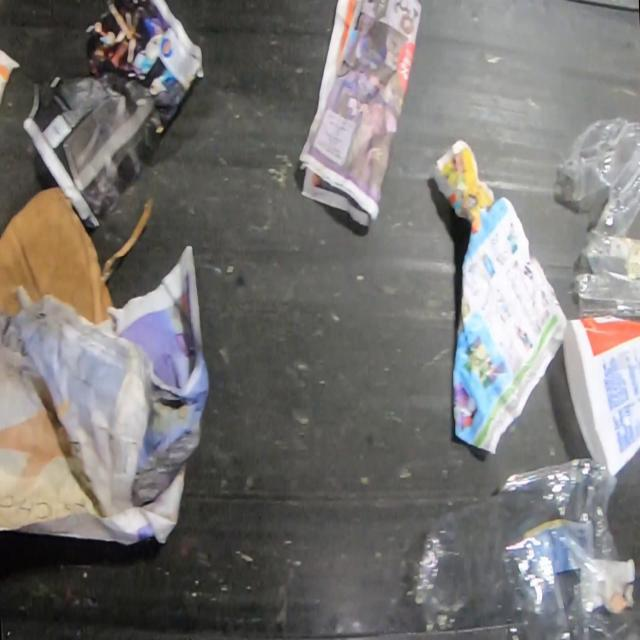cardboard: (0, 185, 152, 327)
rigid_plastic: (554, 117, 640, 322), (562, 315, 640, 475)
soft_plastic: (412, 458, 634, 639)
